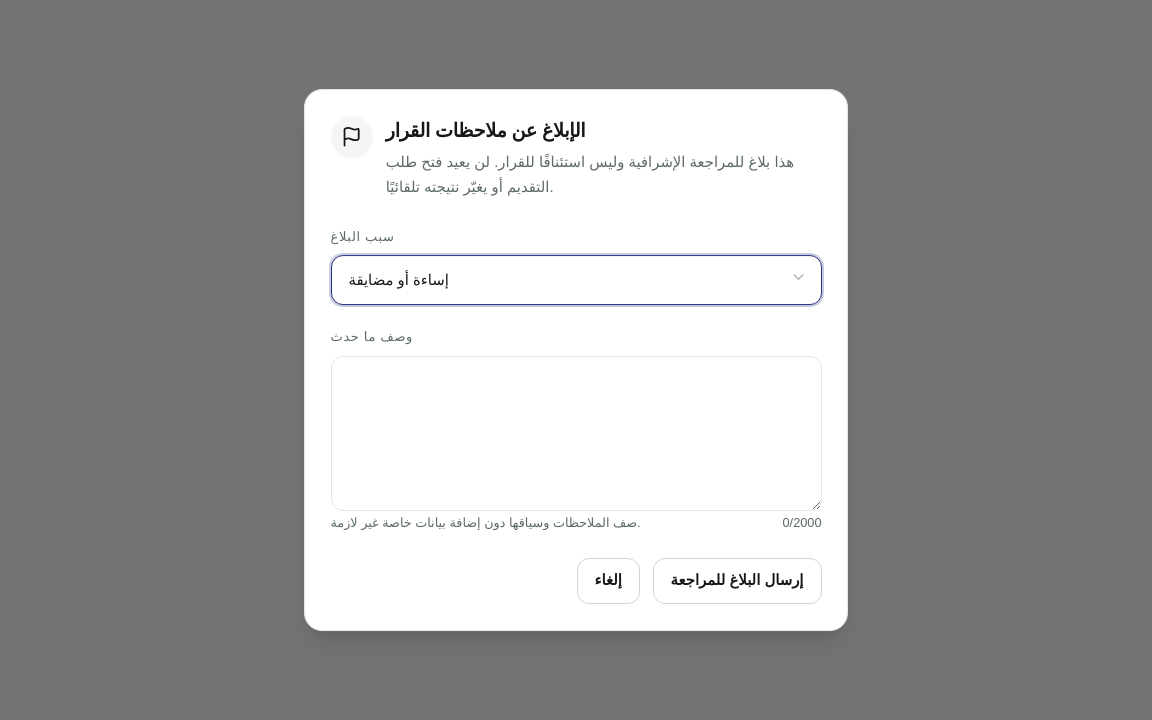
Test: decision feedback moderation report › validates a factual minimum description before submission
Click the button "إرسال البلاغ للمراجعة" at (737, 581), box [653,558,822,604]
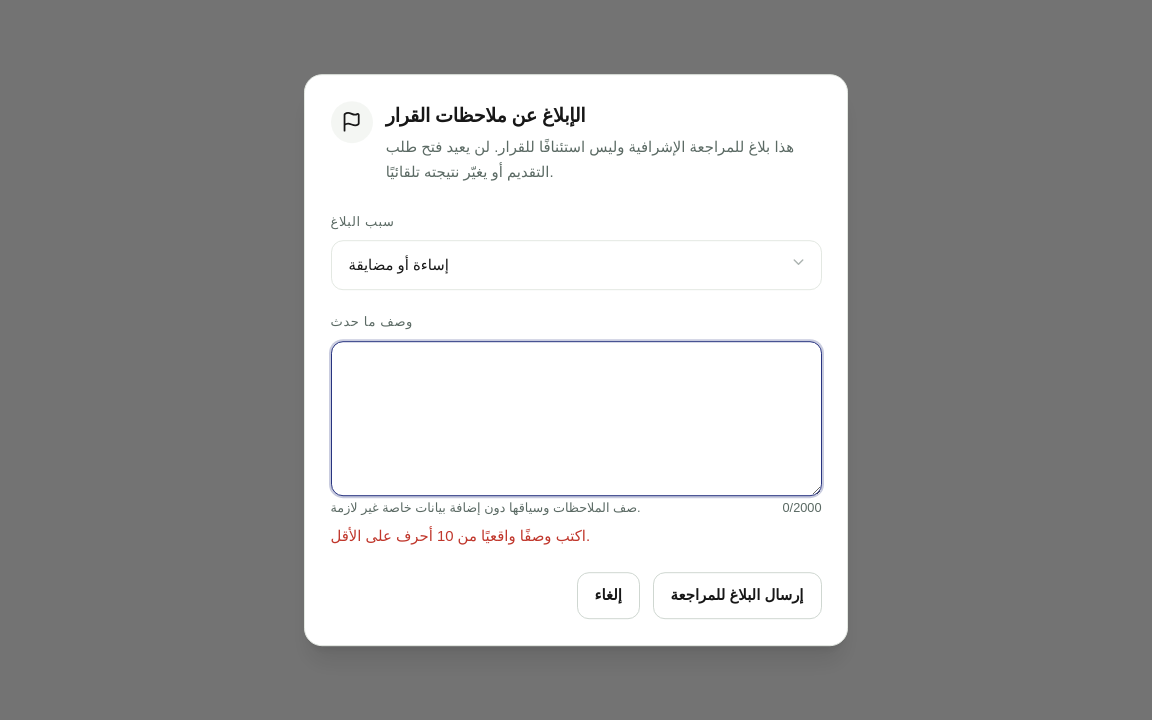
Expected: the text "10 أحرف على الأقل" is shown, [330,528,590,544]
